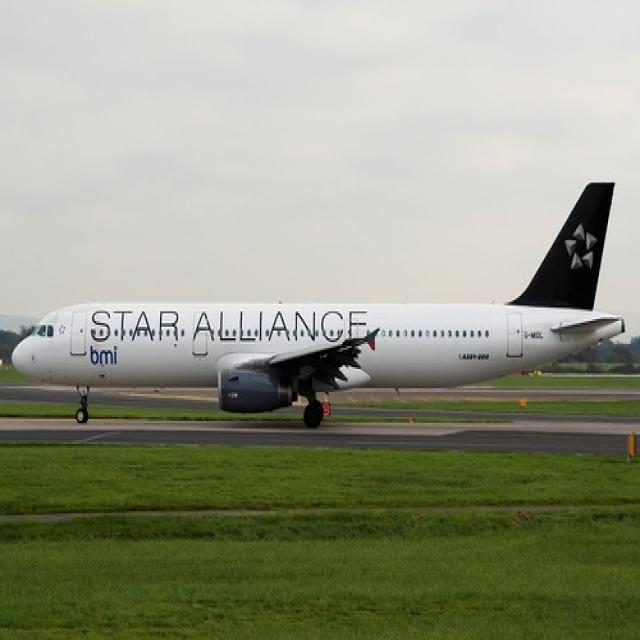aeroplane: (11, 173, 628, 432)
